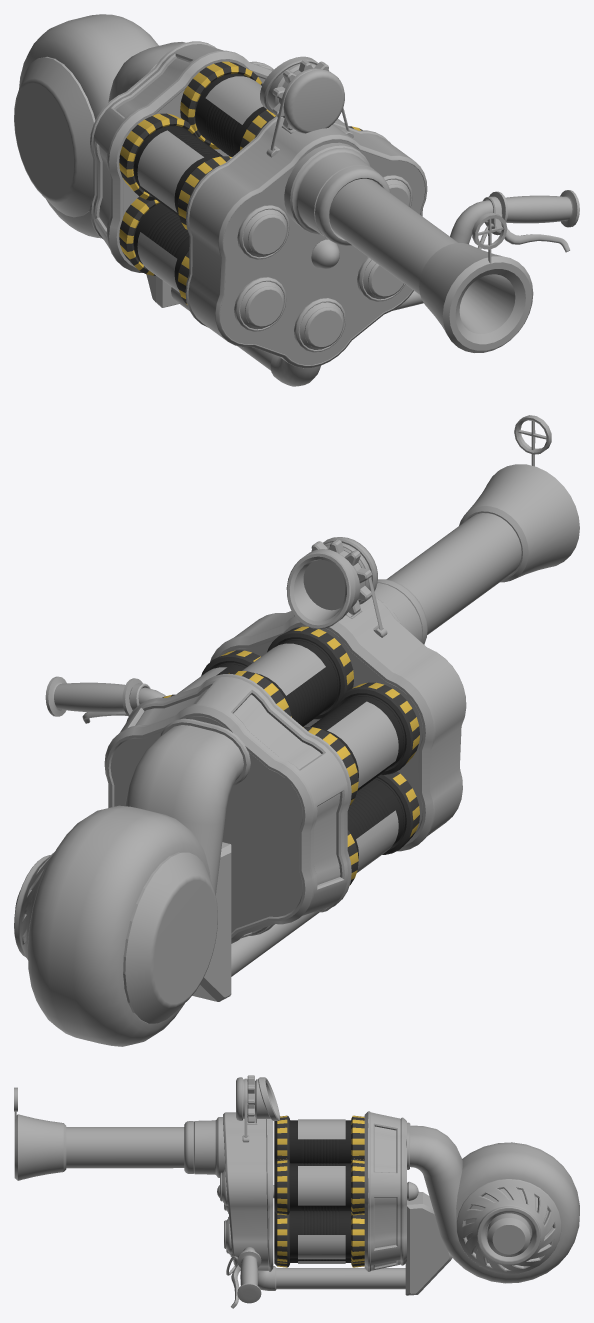
File: FA2_Gun_fbx.fbx
3 renders of one model, top to bottom at view 1: azimuth 30°, elevation 25°; view 2: azimuth 150°, elevation 25°; view 3: azimuth 270°, elevation 25°, orthographic. The views are drawn at different scales.
Visible parts, largest first — view 1: gunBody, chambers, barrel, displayGear; view 2: gunBody, chambers, barrel, spinny, displayGear; view 3: gunBody, chambers, barrel, spinny, displayGear.
Boxes of the visible parts, box(x1,y1,x2,y2) form: gunBody: box(14, 14, 579, 386); chambers: box(119, 61, 362, 304); barrel: box(329, 178, 533, 352); displayGear: box(272, 60, 338, 130); gunBody: box(27, 537, 466, 1046); chambers: box(162, 626, 419, 885); barrel: box(386, 415, 579, 634); spinny: box(14, 852, 54, 959); displayGear: box(311, 539, 372, 614); gunBody: box(184, 1077, 579, 1308); chambers: box(217, 1115, 418, 1267); barrel: box(14, 1087, 184, 1180); spinny: box(456, 1179, 561, 1274); displayGear: box(247, 1075, 254, 1122).
Bounding box in the file's own units: 6.82 × 5.82 × 14.04.
